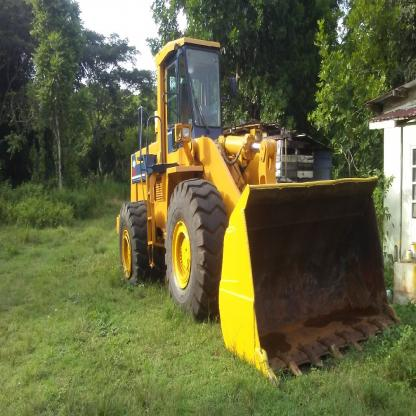bull_dozer/loader/grader: (90, 22, 402, 372)
